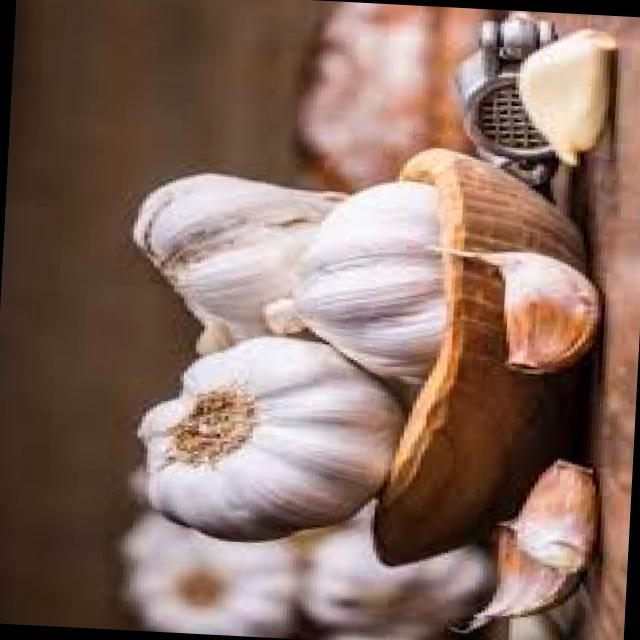Garlic: (122, 313, 392, 553), (116, 140, 368, 378), (258, 140, 451, 390), (472, 459, 608, 632), (492, 234, 608, 395), (508, 20, 640, 160)
